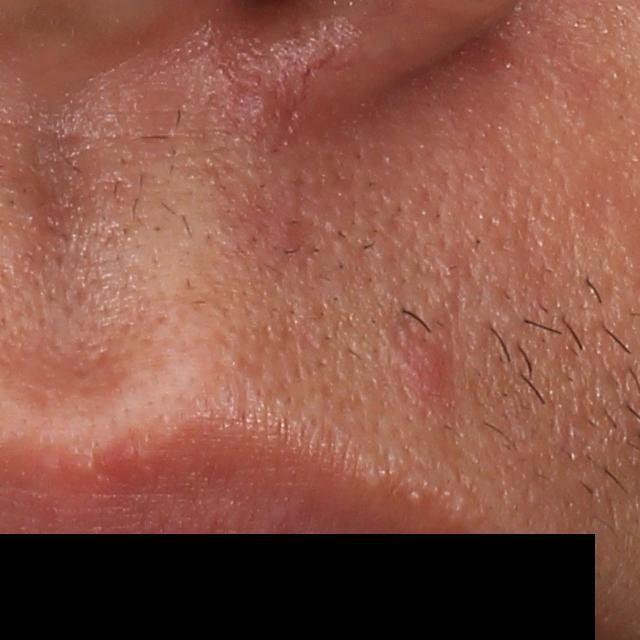papule: (402, 344, 451, 396)
